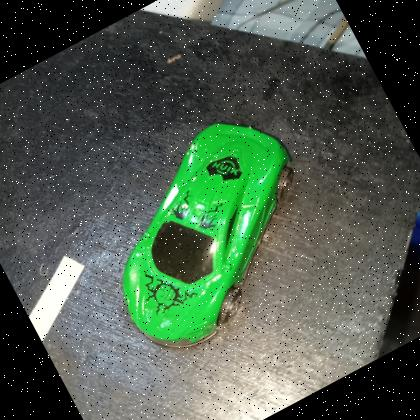Car: (122, 124, 291, 346)
